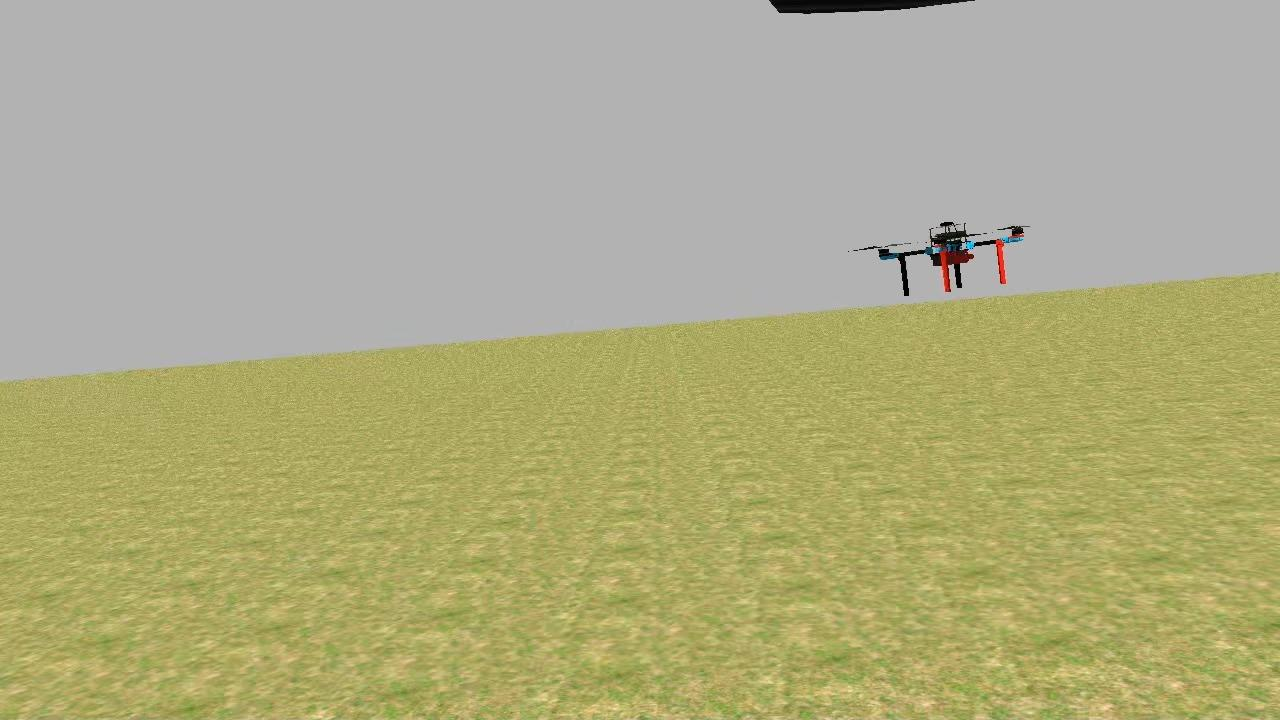UAV: (831, 203, 1056, 318)
